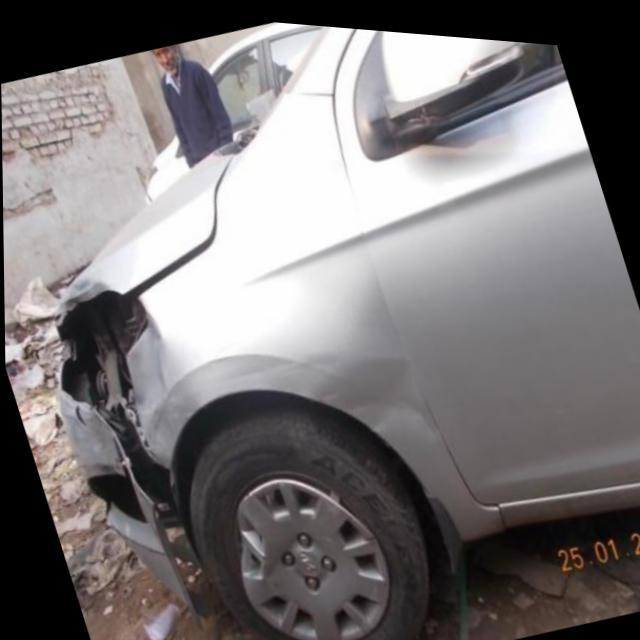dent: (276, 336, 440, 434)
dislocated part: (51, 286, 194, 509)
